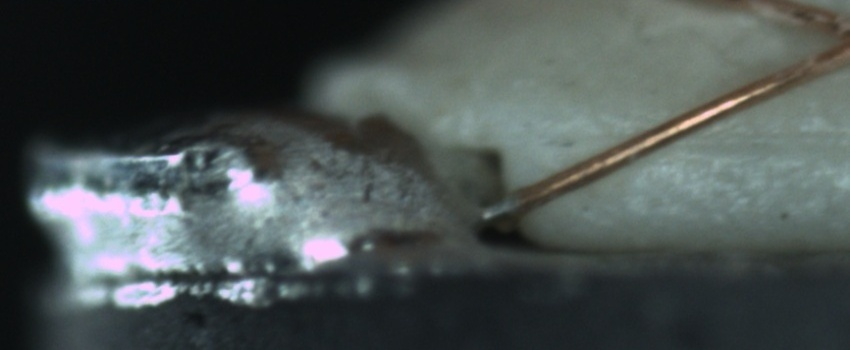DL: (571, 108, 846, 172)
TS: (471, 193, 518, 224)
